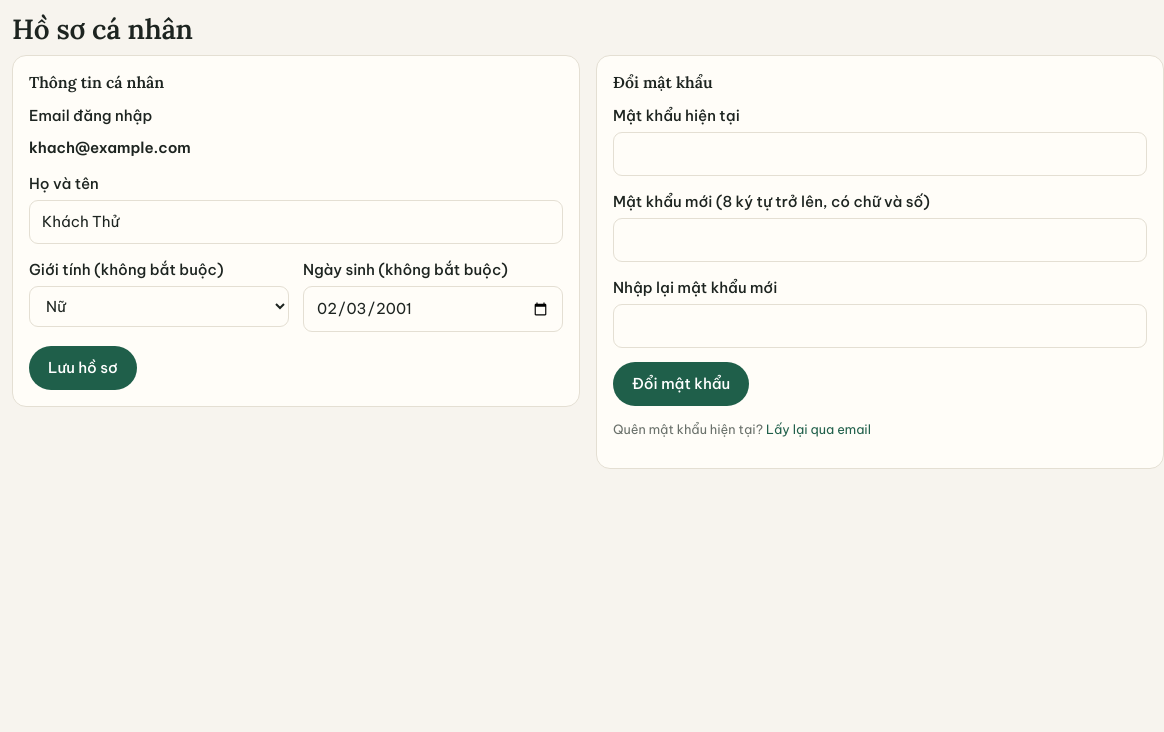
Test case: ProfilePage › mật khẩu hiện tại sai thì hiện lỗi của backend, có liên kết lấy lại qua email
Type "sai12345" into the password field labelled "Mật khẩu hiện tại".
click(880, 154); type("sai12345")  # box [613,132,1147,176]
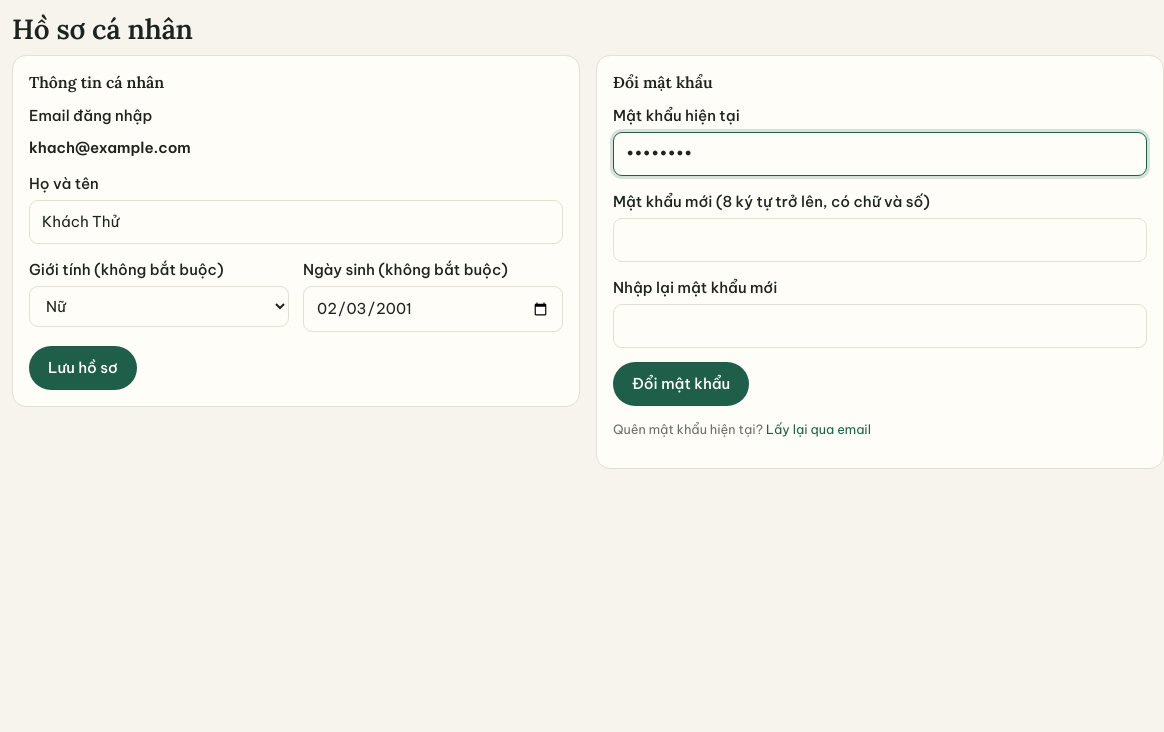
Type "matkhaumoi2" into the password field labelled "Mật khẩu mới (8 ký tự trở lên, có chữ và số)".
click(880, 240); type("matkhaumoi2")  # box [613,218,1147,262]
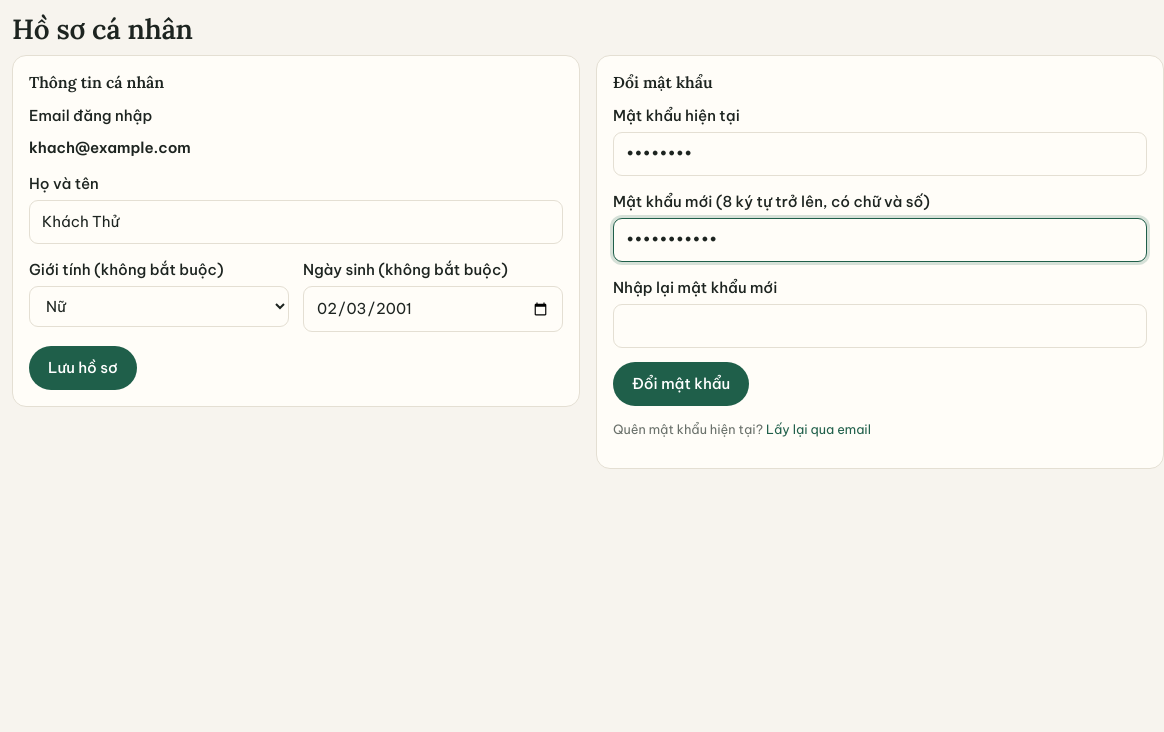
Type "matkhaumoi2" into the password field labelled "Nhập lại mật khẩu mới".
click(880, 326); type("matkhaumoi2")  # box [613,304,1147,348]
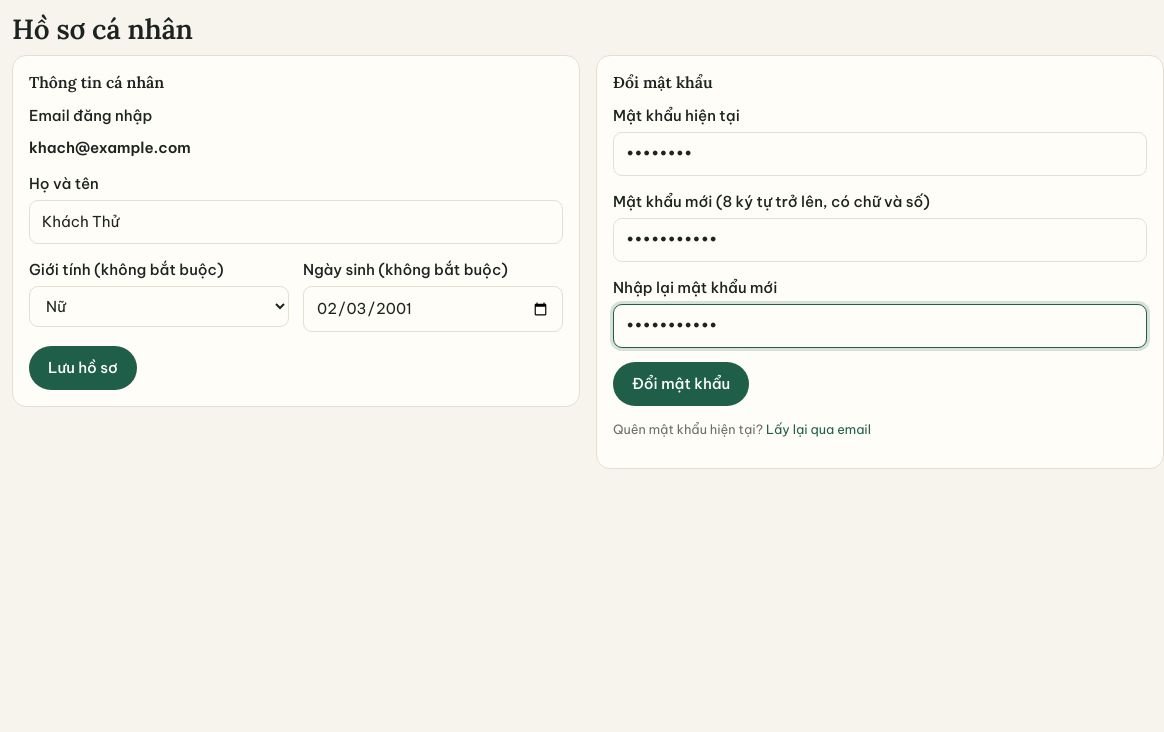
Click the button "Đổi mật khẩu".
click(681, 384)  # box [613,362,749,406]
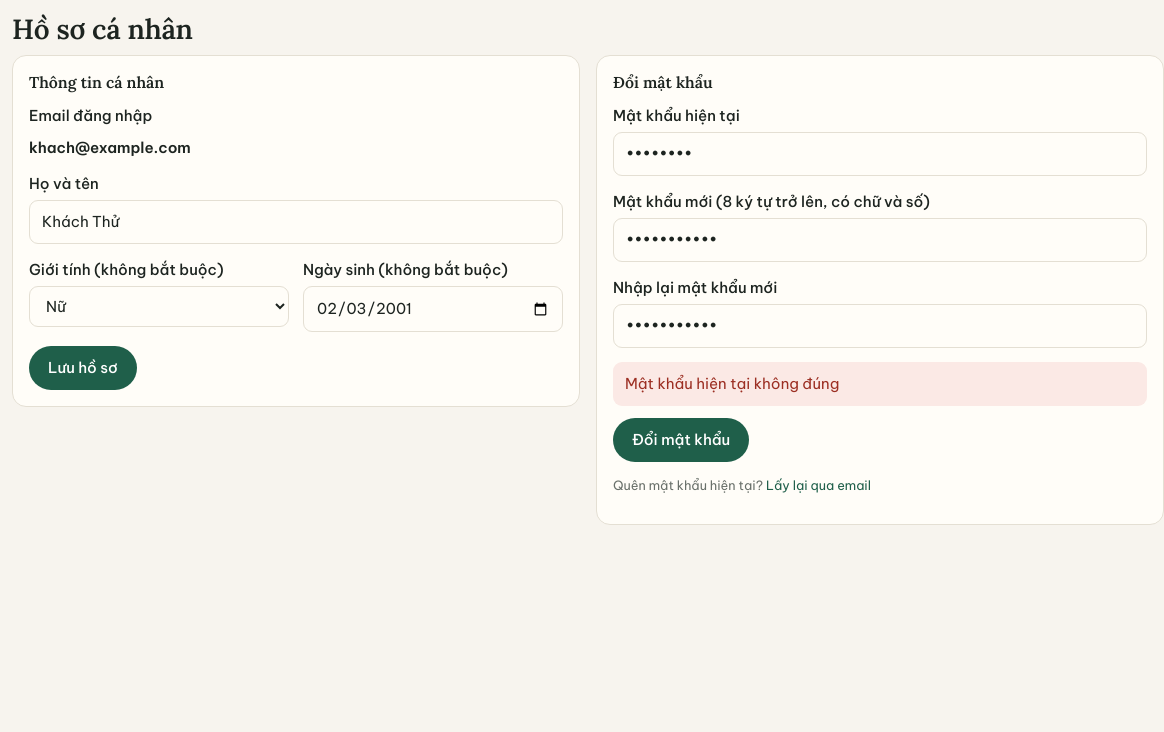
Check: the text "Mật khẩu hiện tại không đúng" is shown, box [613,362,1147,406]
